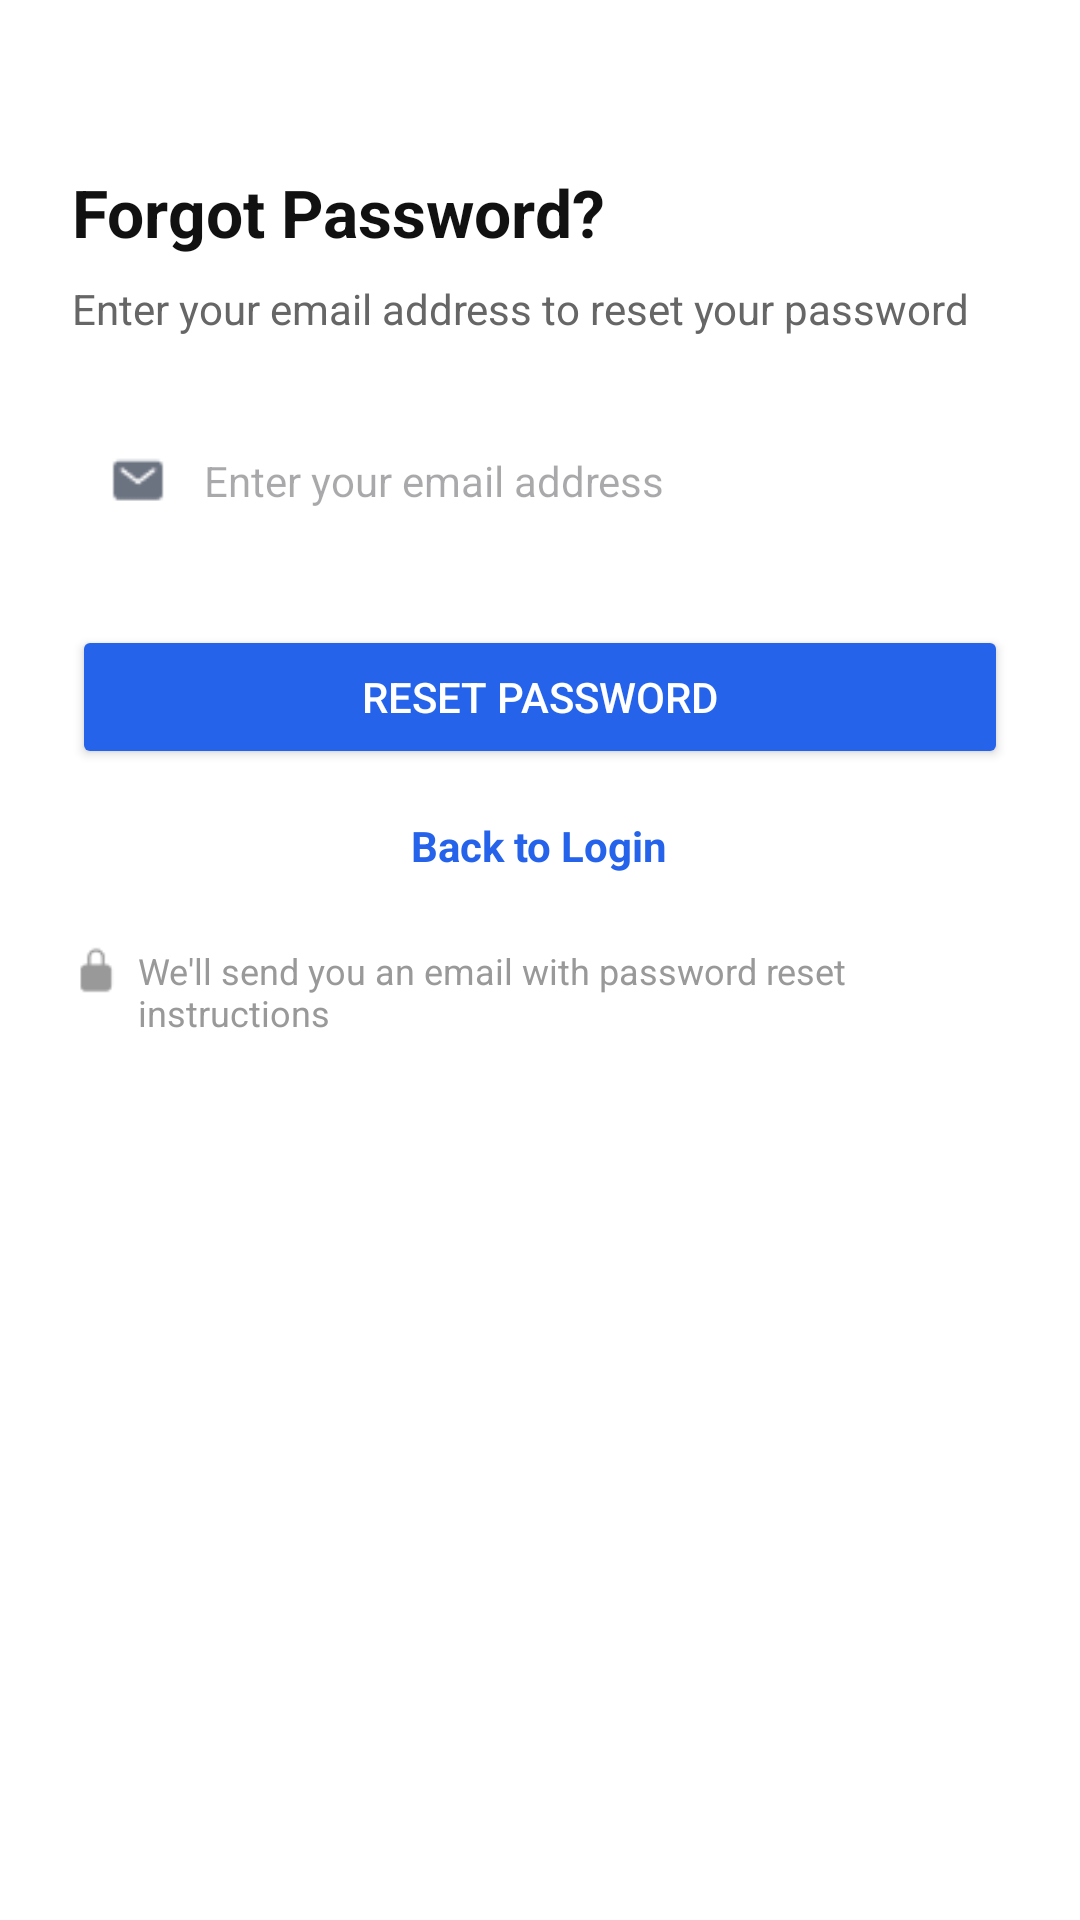

Icons on this 1080x1920 Android screen, each with its box as (x1, y1, x2, y2):
lock: (80, 948, 112, 992)
